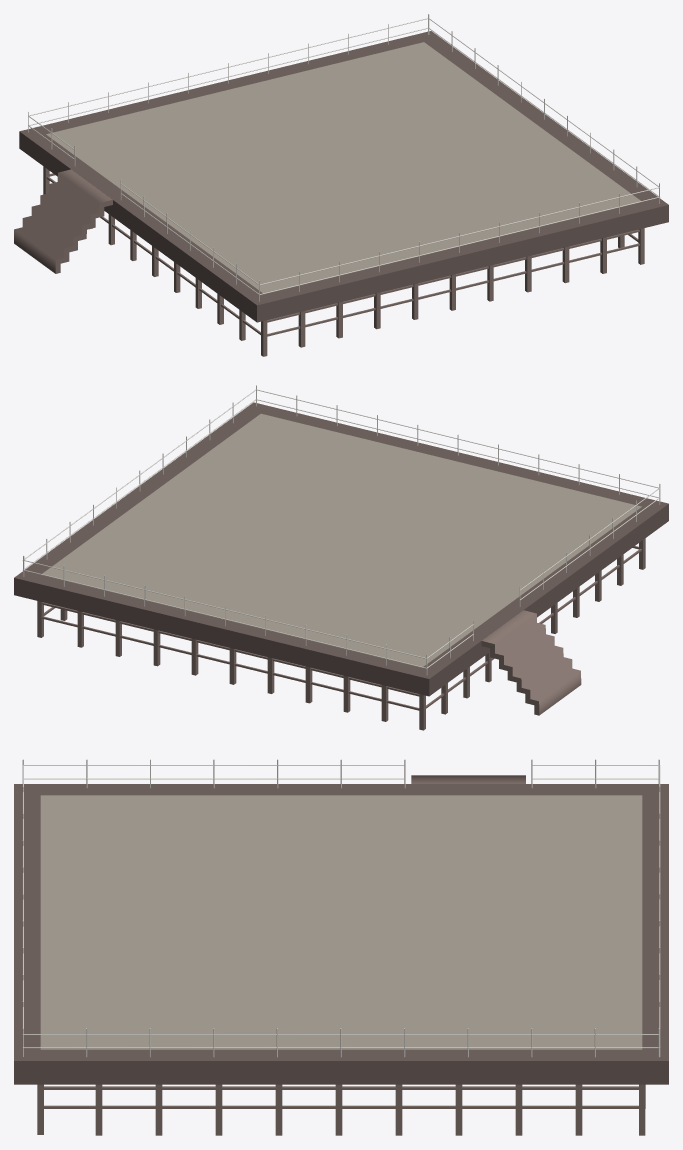
File: 02 Launching pad_1.FBX
3 views of the same model, one above another, from view 1: azimuth 30°, elevation 25°; view 2: azimuth 150°, elevation 25°; view 3: azimuth 270°, elevation 25° (orthographic). The views are drawn at different scales.
Parts seen in each view (by area): view 1: Launching pad_1; view 2: Launching pad_1; view 3: Launching pad_1.
Part boxes in pixels (left/top/right/bottom): Launching pad_1: left=14, top=14, right=668, bottom=356; Launching pad_1: left=14, top=385, right=668, bottom=730; Launching pad_1: left=14, top=759, right=668, bottom=1135.
Bounding box in the file's own units: 5694 × 951 × 5000.
